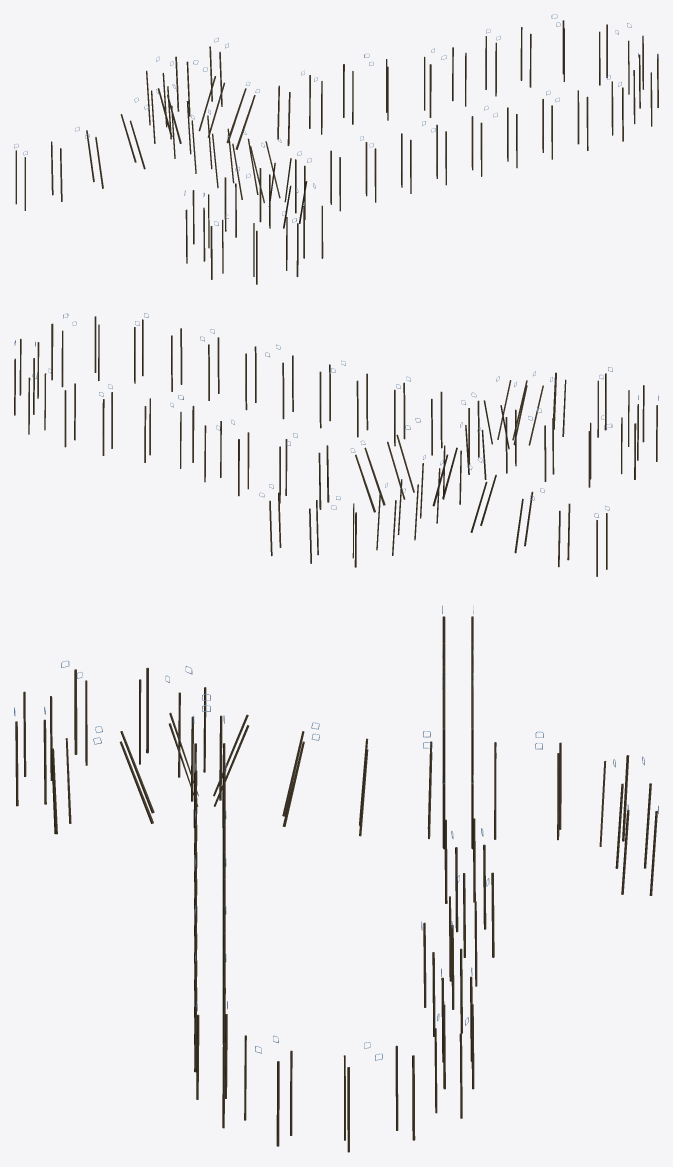
Rendered from path_01_boards.fbx.
3 renders of one model, top to bottom at view 1: azimuth 30°, elevation 25°; view 2: azimuth 150°, elevation 25°; view 3: azimuth 270°, elevation 25°, orthographic. The views are drawn at different scales.
Visible parts, largest first — view 1: Vert_sticks, Plane.001; view 2: Vert_sticks, Plane.001; view 3: Vert_sticks, Plane.001.
Boxes of the visible parts, <box> form: Vert_sticks: <box>15,20,658,284</box>; Plane.001: <box>14,14,658,225</box>; Vert_sticks: <box>14,316,657,576</box>; Plane.001: <box>14,313,658,517</box>; Vert_sticks: <box>15,616,657,1152</box>; Plane.001: <box>14,605,658,1060</box>.
Size of the model in its own units: 1730 by 282 by 1041.
